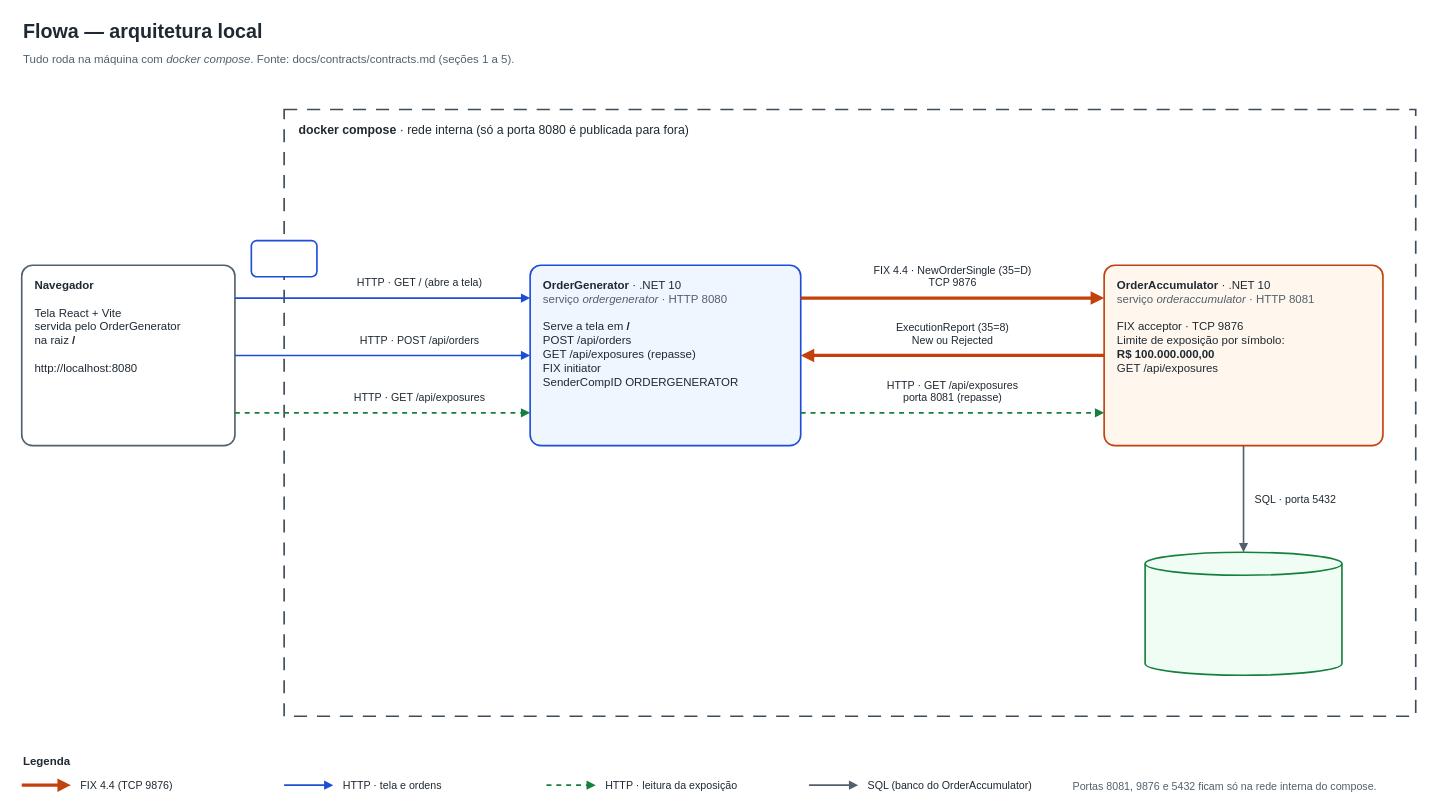
Some shapes in this 1446 by 809 pixel diagram are drawn without their labels. The box of each missing label's shape, as (x1, y1, x2, y2) in pixels:
8080 publicada: (250, 239, 317, 277)
PostgreSQL serviço postgres porta 5432 · banco flowa: (1144, 551, 1342, 676)
